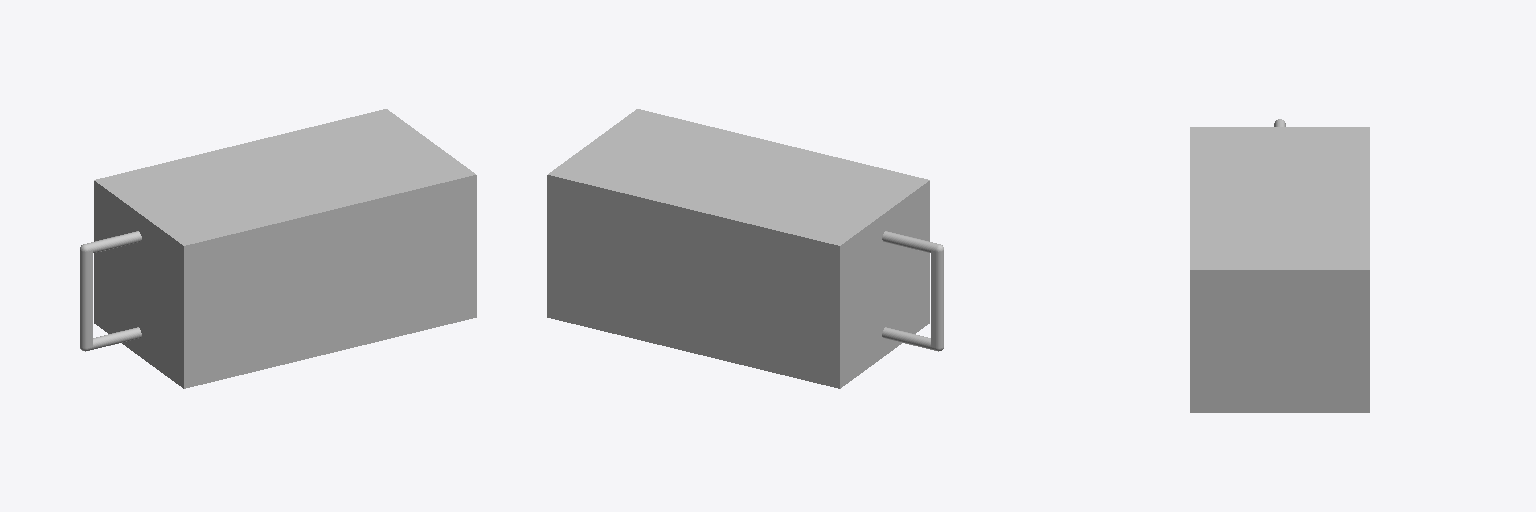
File: blackbox_bighandle.obj
The picture shows the model from 3 angles: view 1: azimuth 30°, elevation 25°; view 2: azimuth 150°, elevation 25°; view 3: azimuth 270°, elevation 25°; orthographic projection.
Visible parts, largest first — view 1: mesh12, mesh9, mesh8, mesh1, mesh7, mesh6; view 2: mesh13, mesh9, mesh8, mesh1, mesh7, mesh6; view 3: mesh9, mesh11.
Part boxes in pixels (left/top/right/bottom): mesh12: left=184, top=175, right=476, bottom=388; mesh9: left=94, top=109, right=475, bottom=245; mesh8: left=94, top=181, right=183, bottom=388; mesh1: left=80, top=251, right=87, bottom=347; mesh7: left=85, top=231, right=141, bottom=252; mesh6: left=88, top=327, right=141, bottom=350; mesh13: left=547, top=175, right=839, bottom=388; mesh9: left=548, top=109, right=929, bottom=245; mesh8: left=840, top=181, right=929, bottom=388; mesh1: left=936, top=251, right=943, bottom=347; mesh7: left=882, top=231, right=938, bottom=252; mesh6: left=882, top=327, right=935, bottom=350; mesh9: left=1190, top=127, right=1369, bottom=269; mesh11: left=1190, top=270, right=1369, bottom=412.
Bounding box in the file's own units: 0.36 × 0.14 × 0.16.